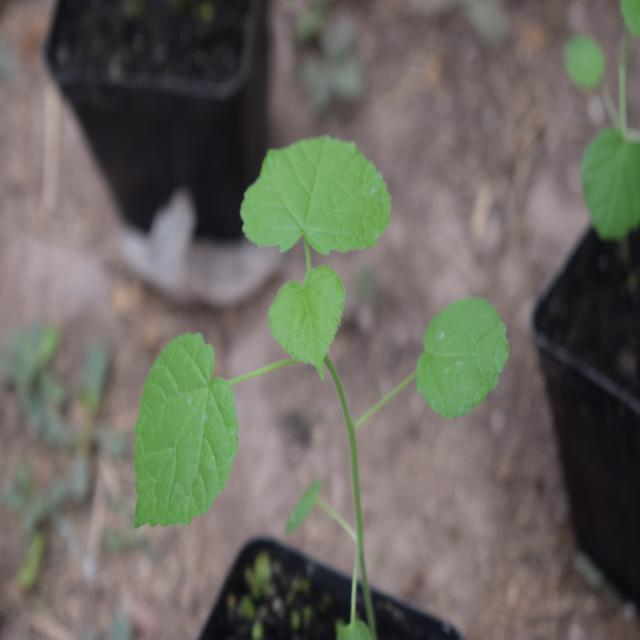abutilon theophrasti: (131, 160, 512, 530)
